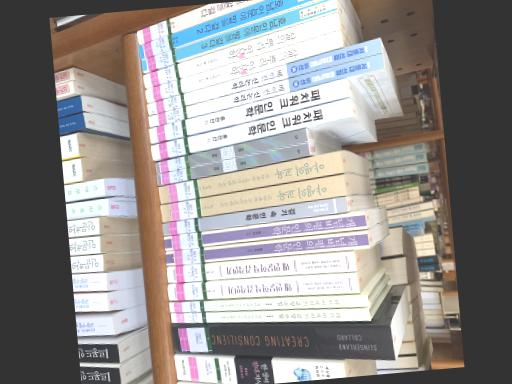book-spine: (146, 37, 380, 115), (148, 52, 382, 127), (142, 12, 339, 89), (144, 30, 341, 103), (140, 0, 336, 72), (147, 78, 348, 144), (150, 98, 350, 160), (137, 0, 317, 60), (157, 151, 342, 204), (159, 174, 345, 223), (163, 211, 365, 251), (170, 324, 394, 360), (161, 196, 346, 236), (164, 230, 368, 266), (153, 128, 306, 174), (155, 142, 310, 185), (166, 252, 355, 283), (135, 0, 263, 45), (166, 274, 359, 300), (173, 355, 343, 384), (168, 295, 368, 312), (169, 308, 368, 323)
